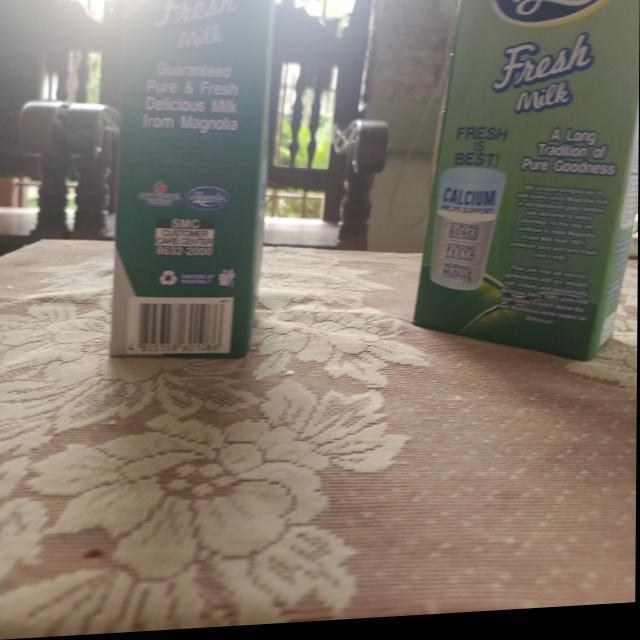milk: (419, 0, 640, 371), (105, 0, 280, 369)
